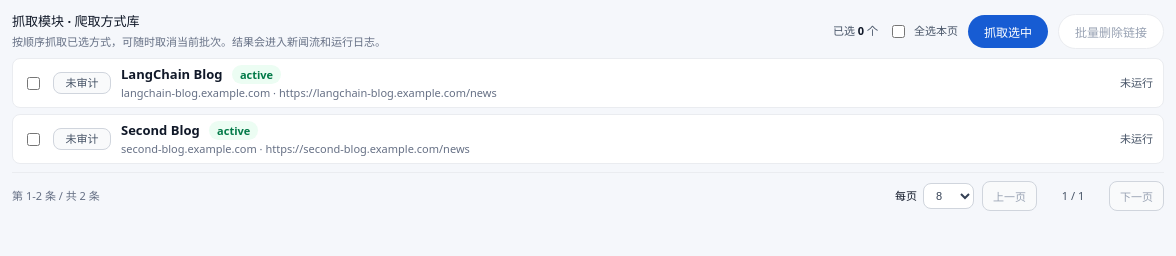
Test case: CrawlMethodList › stops batch fetching when the user cancels the crawl
Step 1. Click the checkbox named "选择 LangChain Blog" → [34, 83], box [27,76,40,90]
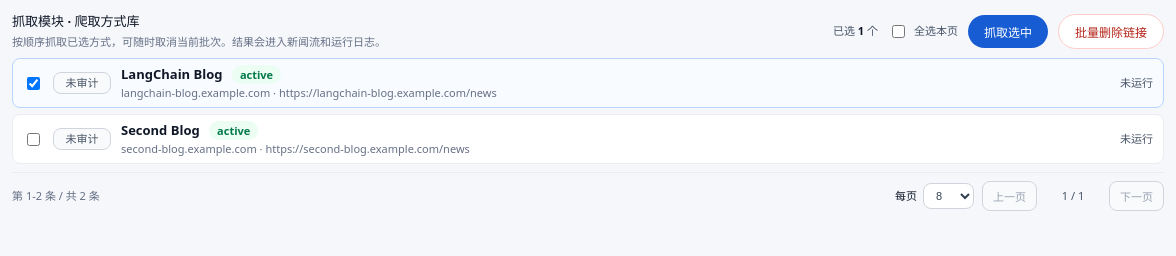
Step 2. Click the checkbox named "选择 Second Blog" → [34, 139], box [27,132,40,146]
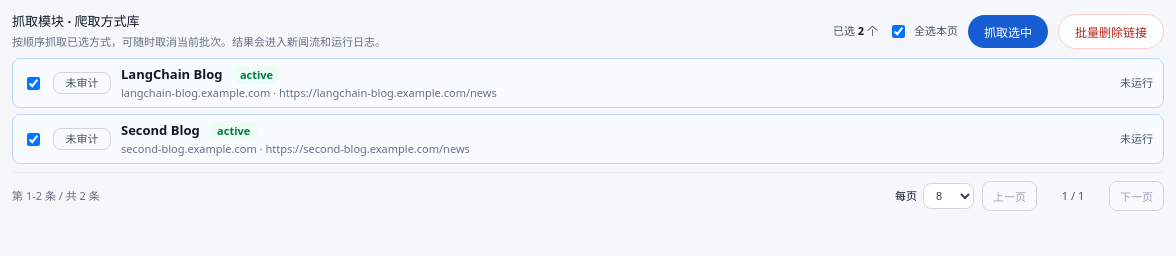
Step 3. Click the button "抓取选中" → [1008, 31], box [968,14,1048,48]
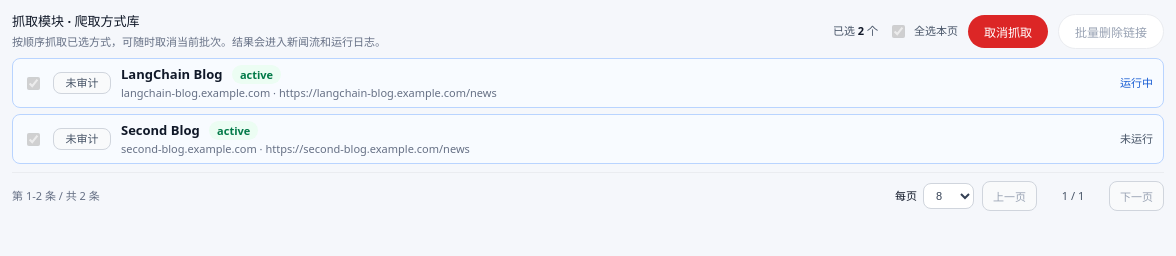
Step 4. Click the button "取消抓取" → [1008, 31], box [968,14,1048,48]
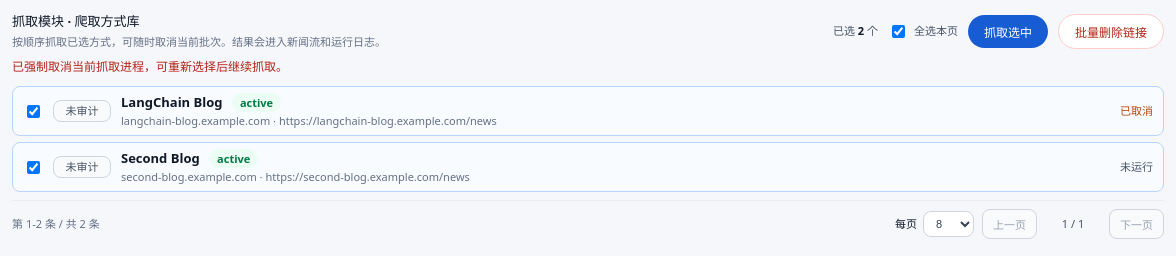
Check: the text "已强制取消" is shown, box [12,58,288,75]
